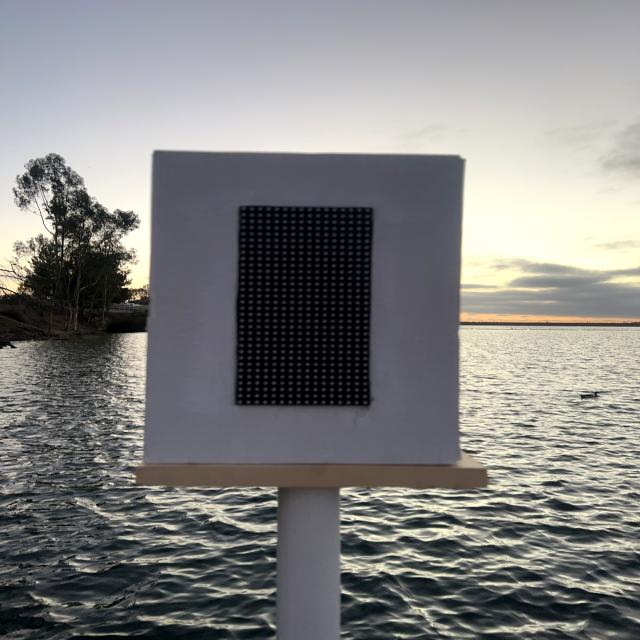led: (219, 189, 405, 433)
